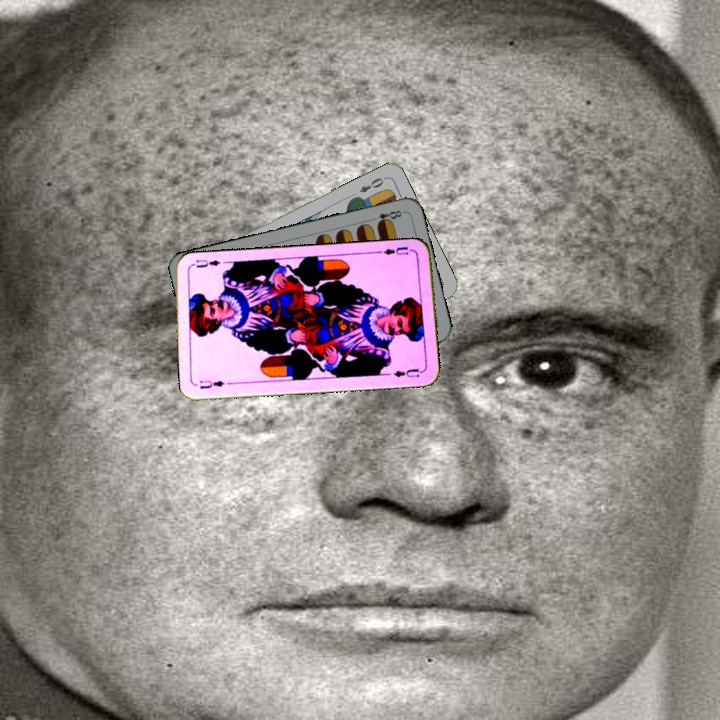E8: (373, 206, 406, 228)
EO: (355, 173, 389, 195)
EU: (380, 243, 416, 258), (196, 376, 227, 391)
